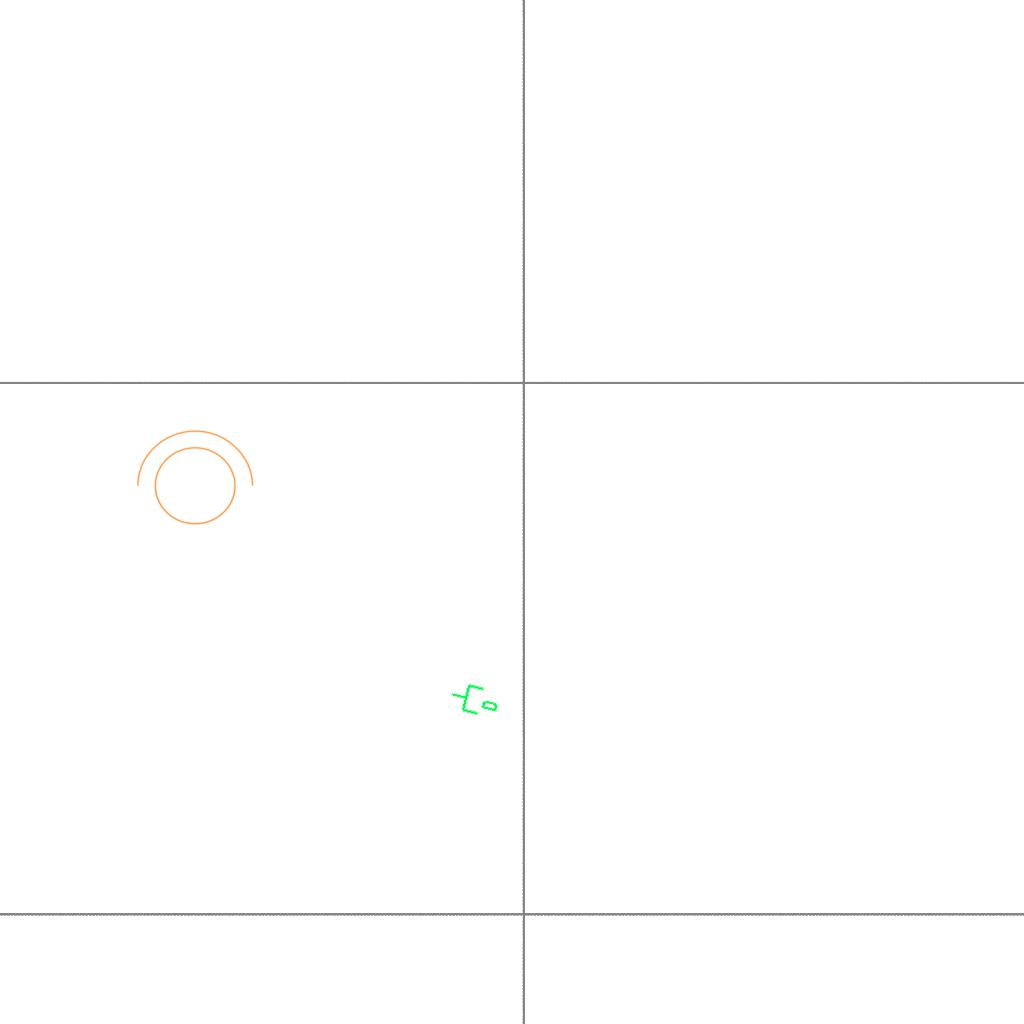Datenanschluss_einfach: (446, 676, 504, 722)
Scheinwerfer_fuer_Alarmbeleuchtung: (126, 425, 258, 537)
